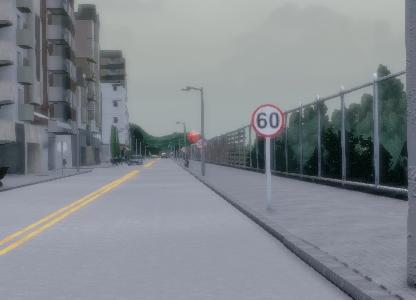Speed_60: (252, 105, 284, 139)
